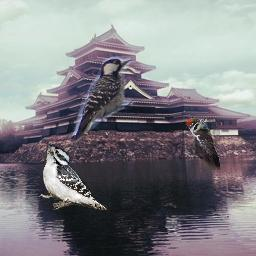Woodpecker: (65, 53, 139, 148), (37, 140, 107, 210), (185, 117, 220, 170)
